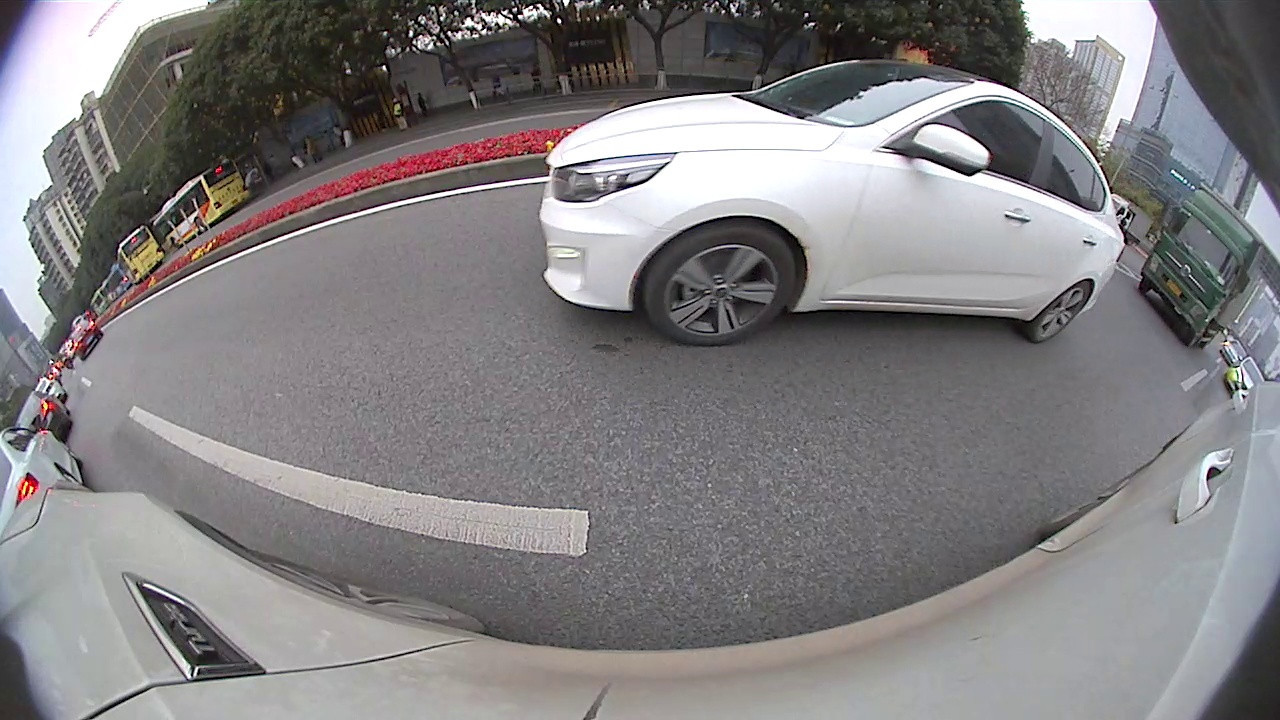bus: (151, 154, 251, 253), (114, 221, 168, 289)
car: (541, 57, 1126, 347), (2, 430, 81, 526), (18, 391, 72, 438), (66, 316, 103, 362), (1226, 360, 1268, 400)
front: (643, 219, 798, 348)
rear: (1029, 278, 1096, 342)
truck: (1137, 181, 1260, 353)
